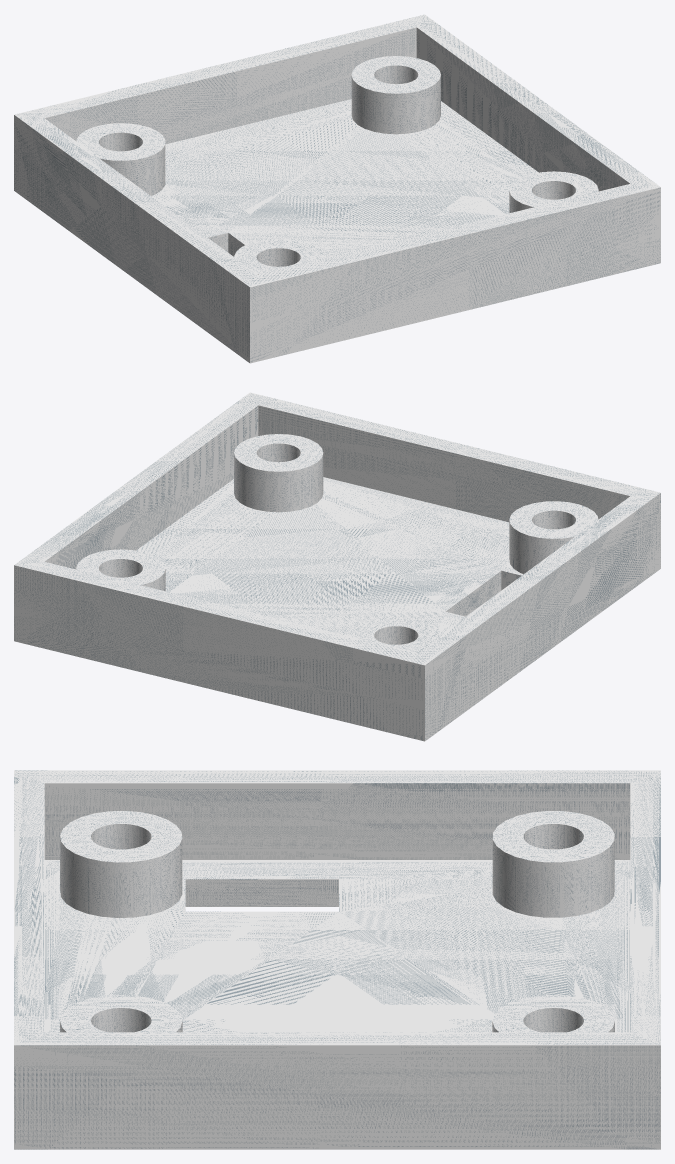
Rendered from flp_wide_angle_cam_case.dae.
The picture shows the model from 3 angles, top to bottom: view 1: azimuth 30°, elevation 25°; view 2: azimuth 150°, elevation 25°; view 3: azimuth 270°, elevation 25°; orthographic projection. The views are drawn at different scales.
Visible parts, largest first — view 1: group_0 (×10); view 2: group_0 (×11); view 3: group_0 (×11).
Boxes of the visible parts, <box> form: group_0 (×10): <box>14,14,660,363</box>; group_0 (×11): <box>14,392,660,741</box>; group_0 (×11): <box>14,770,660,1149</box>.
Size of the model in its own units: 1.67 by 1.66 by 0.2953.
